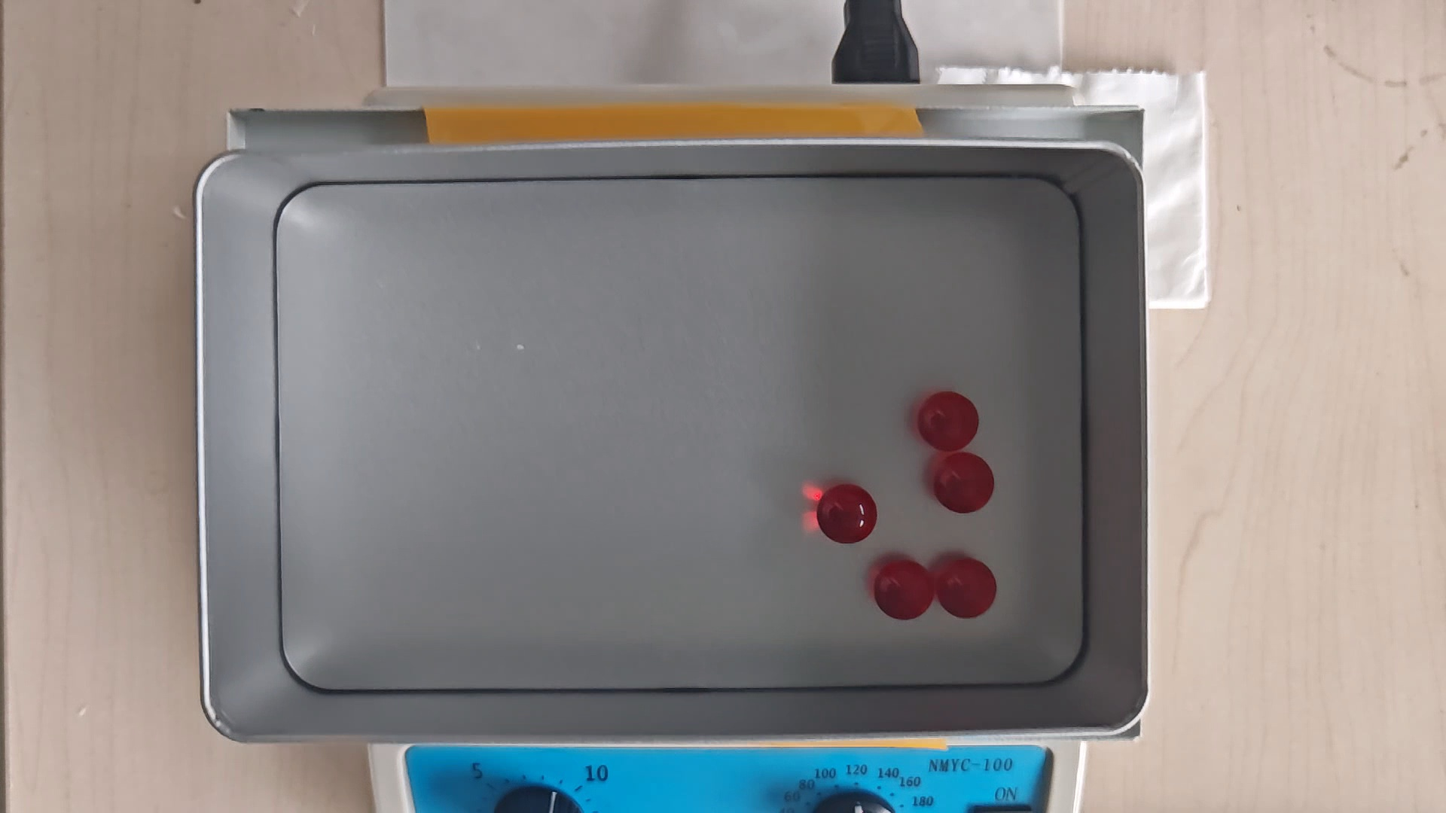ball: (936, 558, 997, 620), (935, 452, 996, 513), (817, 484, 877, 544), (875, 558, 932, 620), (920, 390, 978, 449)
container: (278, 176, 1084, 690)
